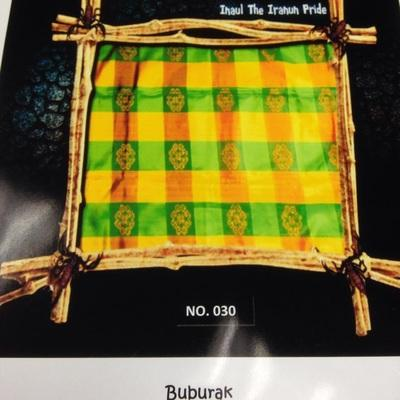malong: (85, 31, 358, 261)
